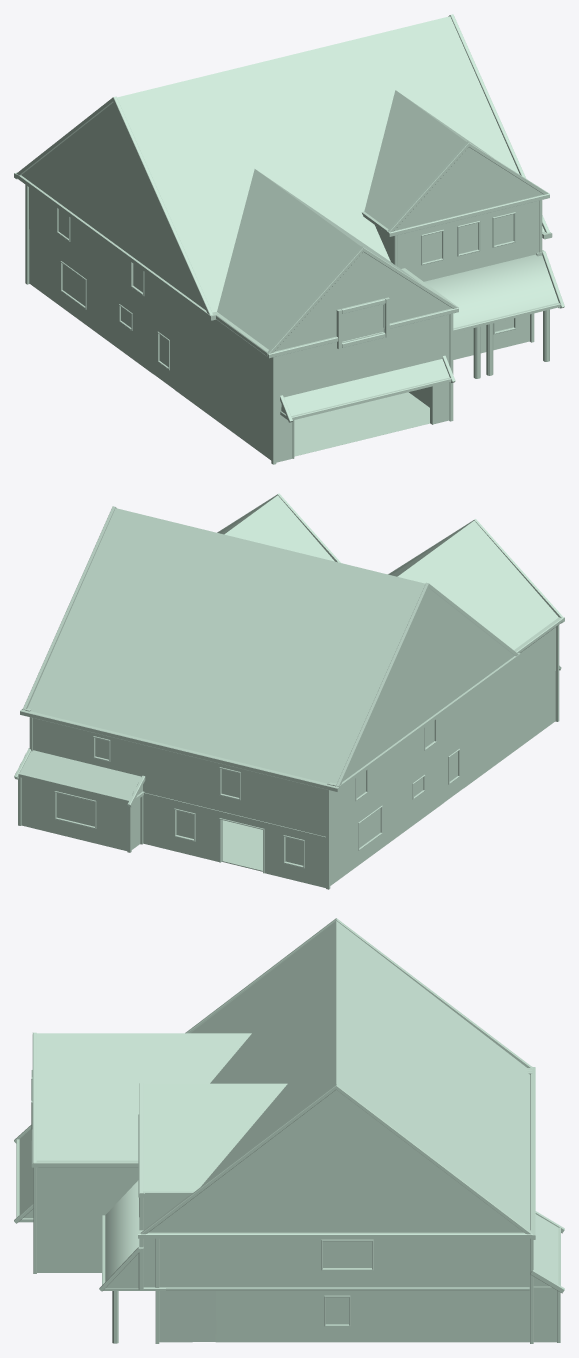
File: House_SIM_update1 1.fbx
3 views of the same model, one above another, from view 1: azimuth 30°, elevation 25°; view 2: azimuth 150°, elevation 25°; view 3: azimuth 270°, elevation 25° (orthographic). The views are drawn at different scales.
Visible parts, largest first — view 1: House_Mesh.001; view 2: House_Mesh.001; view 3: House_Mesh.001.
Part boxes in pixels (bbox=[...]): House_Mesh.001: bbox=[14, 14, 564, 464]; House_Mesh.001: bbox=[14, 493, 564, 889]; House_Mesh.001: bbox=[14, 918, 564, 1343].
Bounding box in the file's own units: 420 × 308 × 581.
